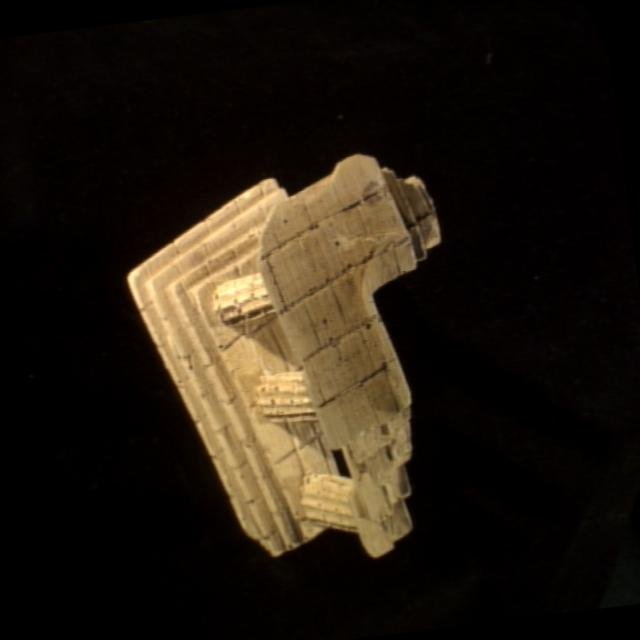Instance-Segmentation: (126, 154, 438, 555)
